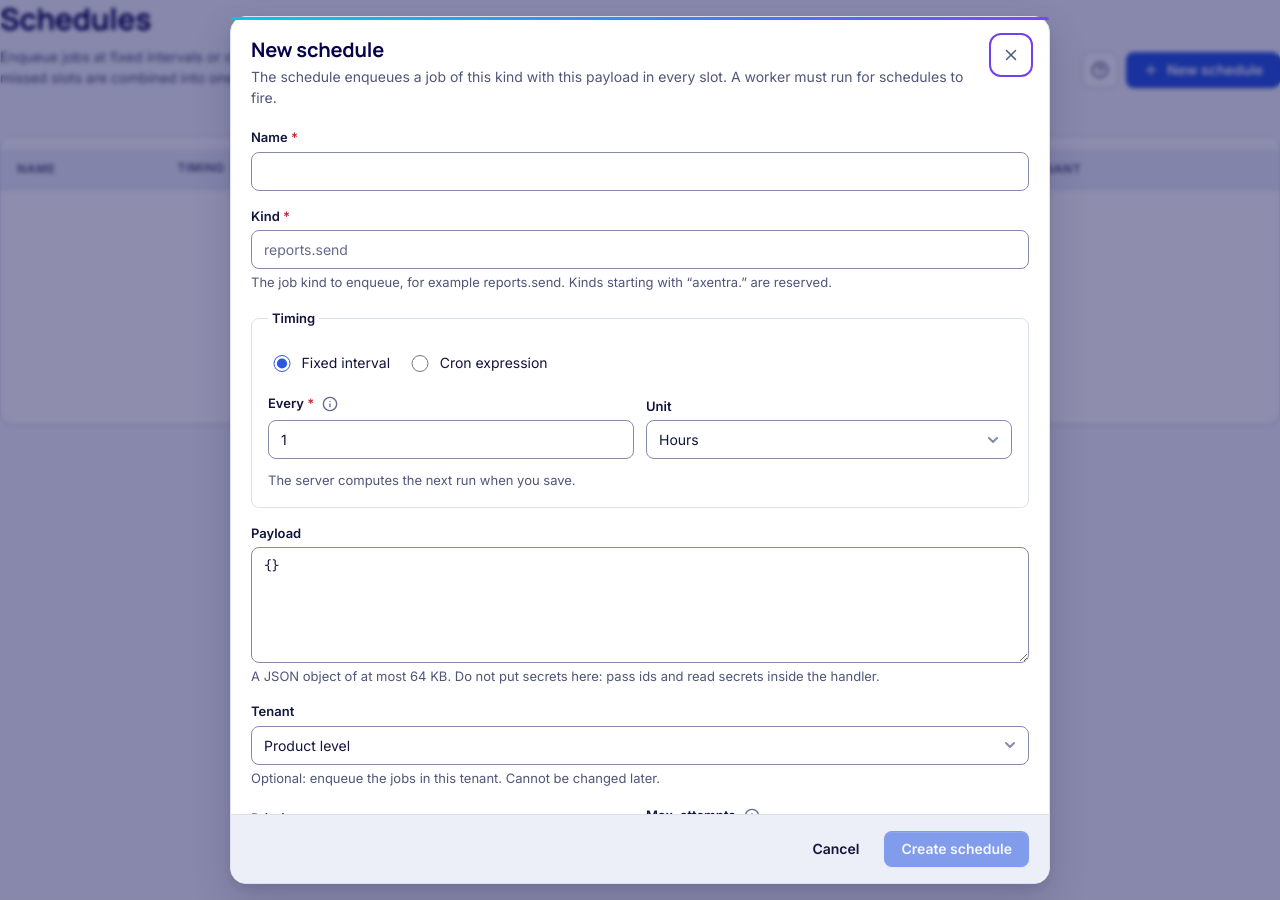
Test case: SchedulesPage › shows the server explanation when it rejects a cron expression
Type "Never" into the field labelled "Name *" at (640, 171), box x1=251 y1=152 x2=1029 y2=190
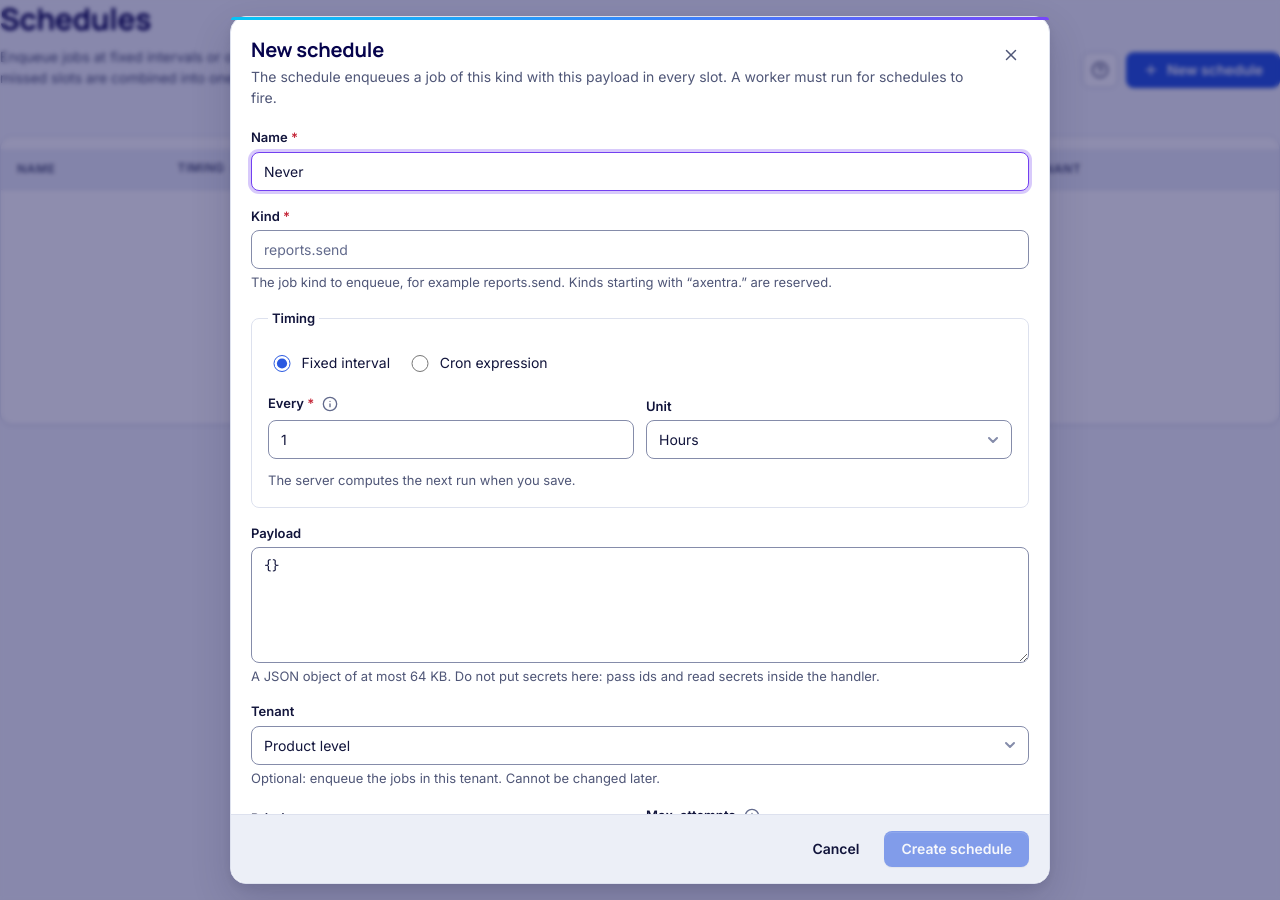
Type "x.y" into the field labelled "Kind *" at (640, 250), box x1=251 y1=230 x2=1029 y2=269
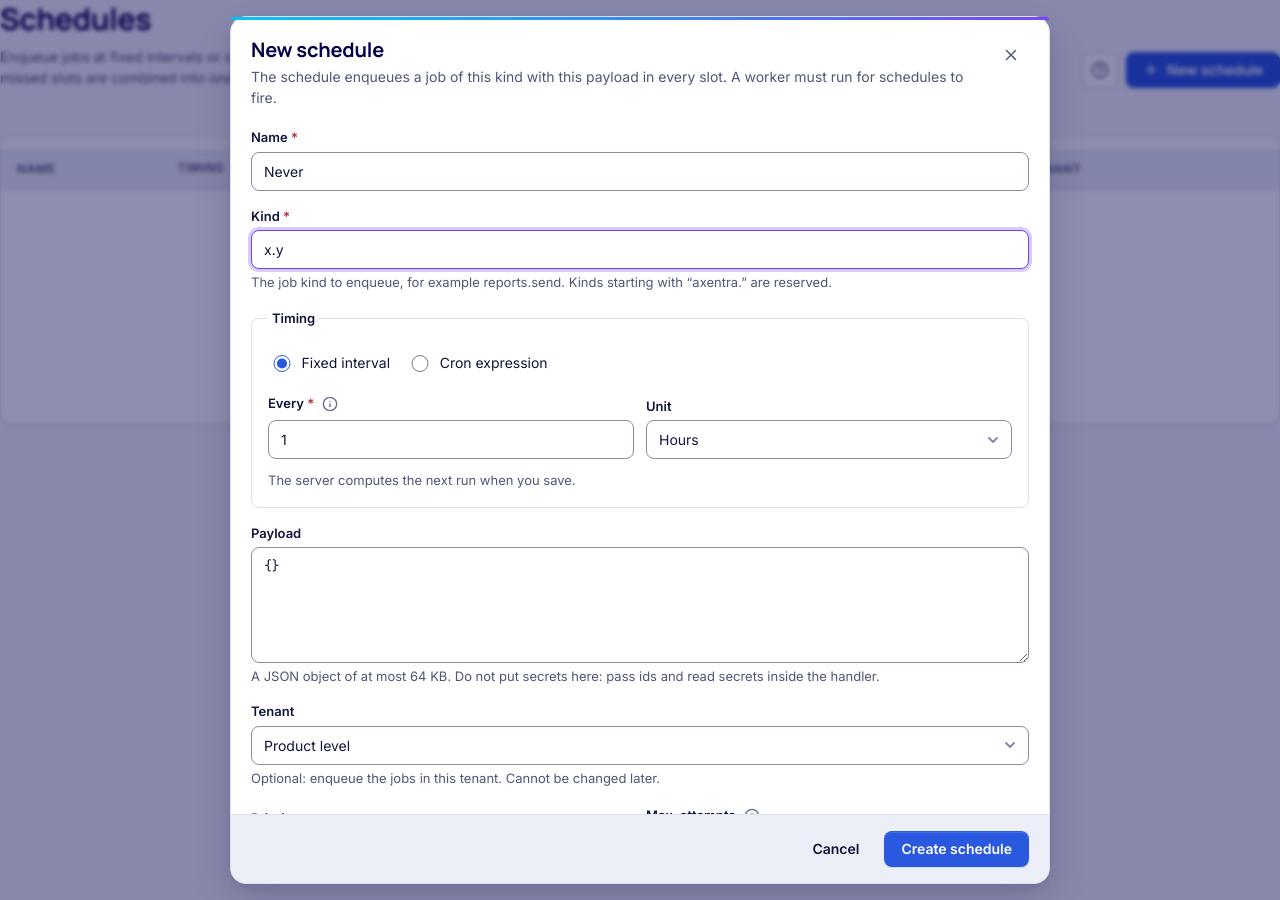
Click the radio button labelled "Cron expression" at (420, 364), box x1=411 y1=355 x2=429 y2=372
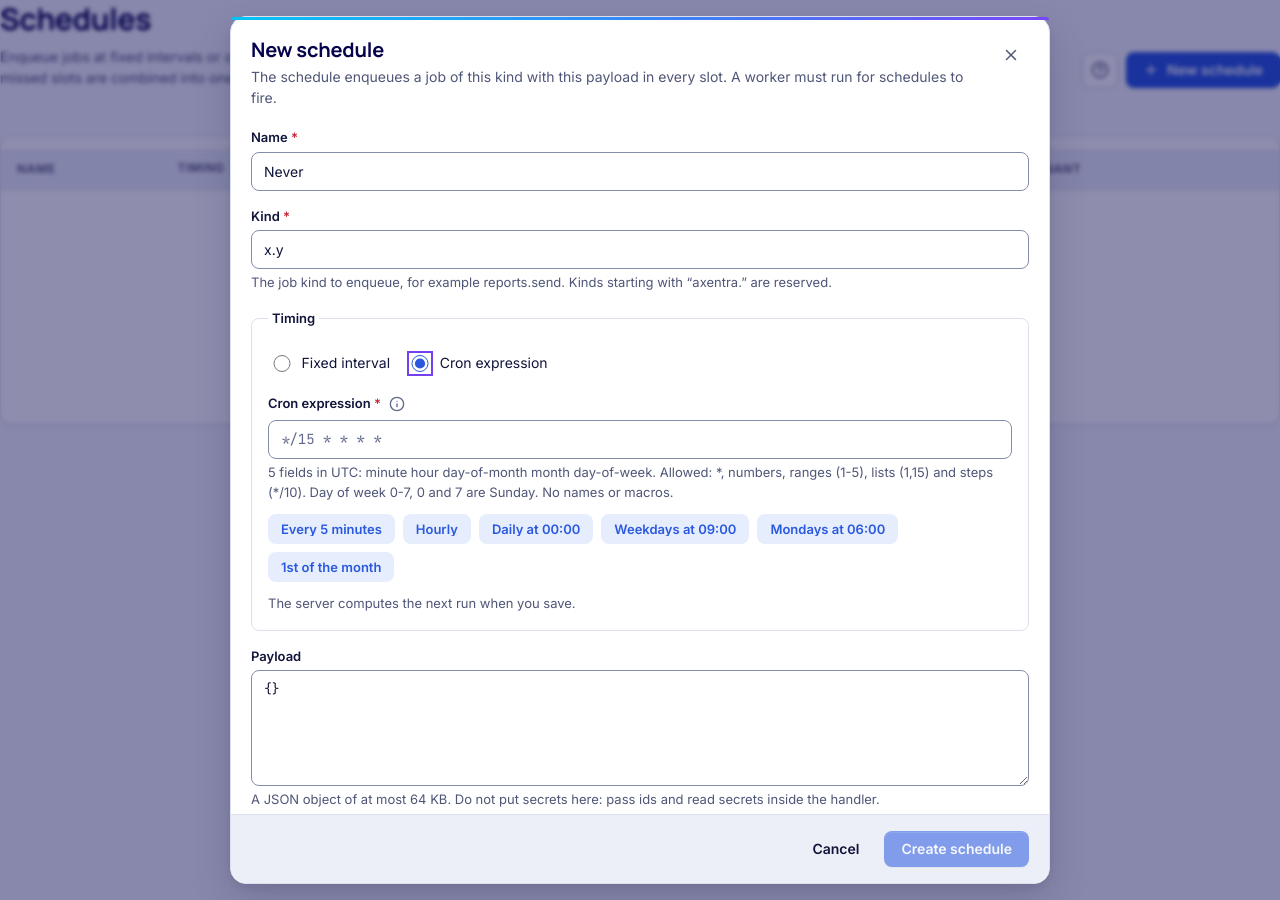
Type "0 0 31 2 *" into the field labelled "Cron expression *" at (640, 440), box x1=268 y1=420 x2=1012 y2=459
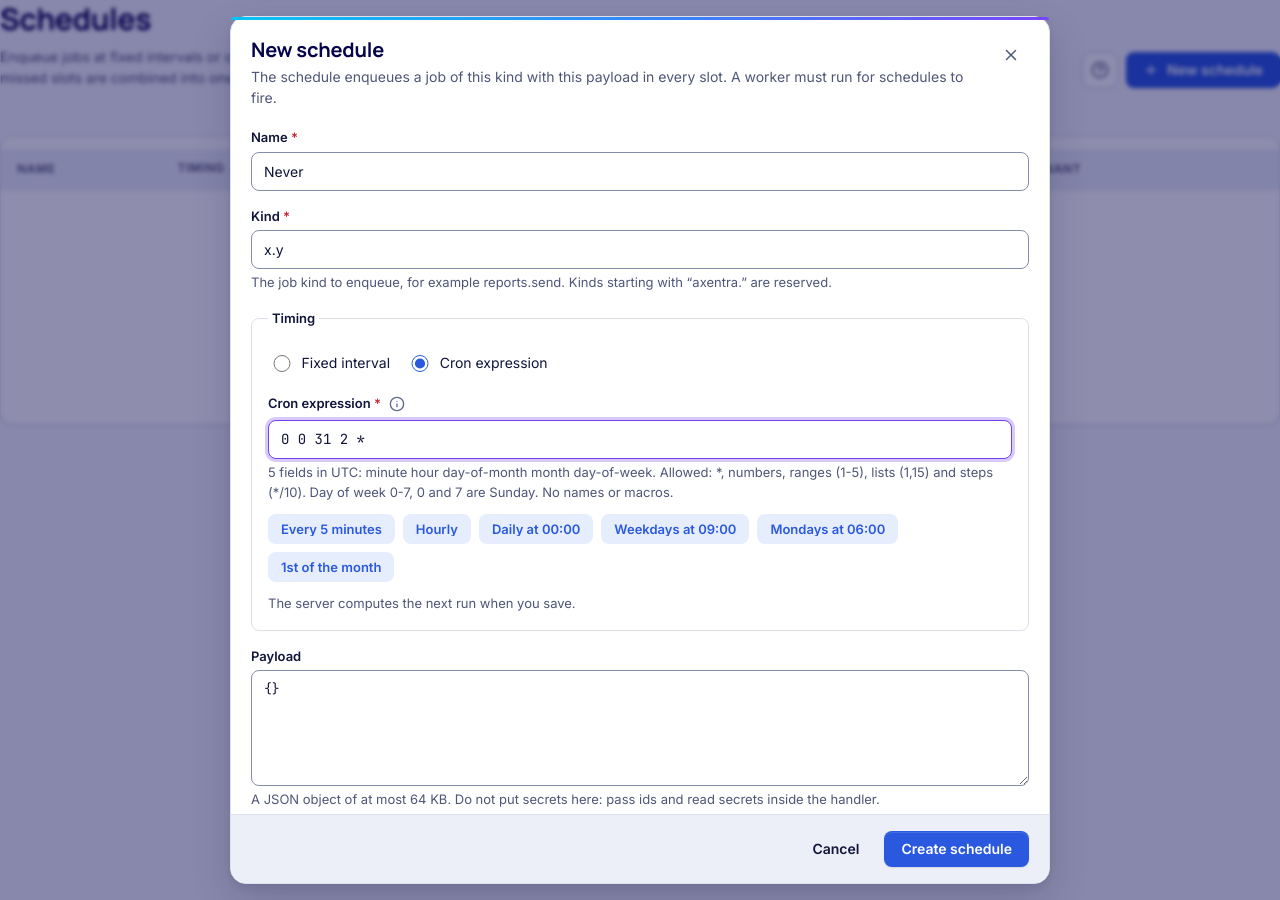
Click the button "Create schedule" at (957, 849), box x1=884 y1=831 x2=1029 y2=867
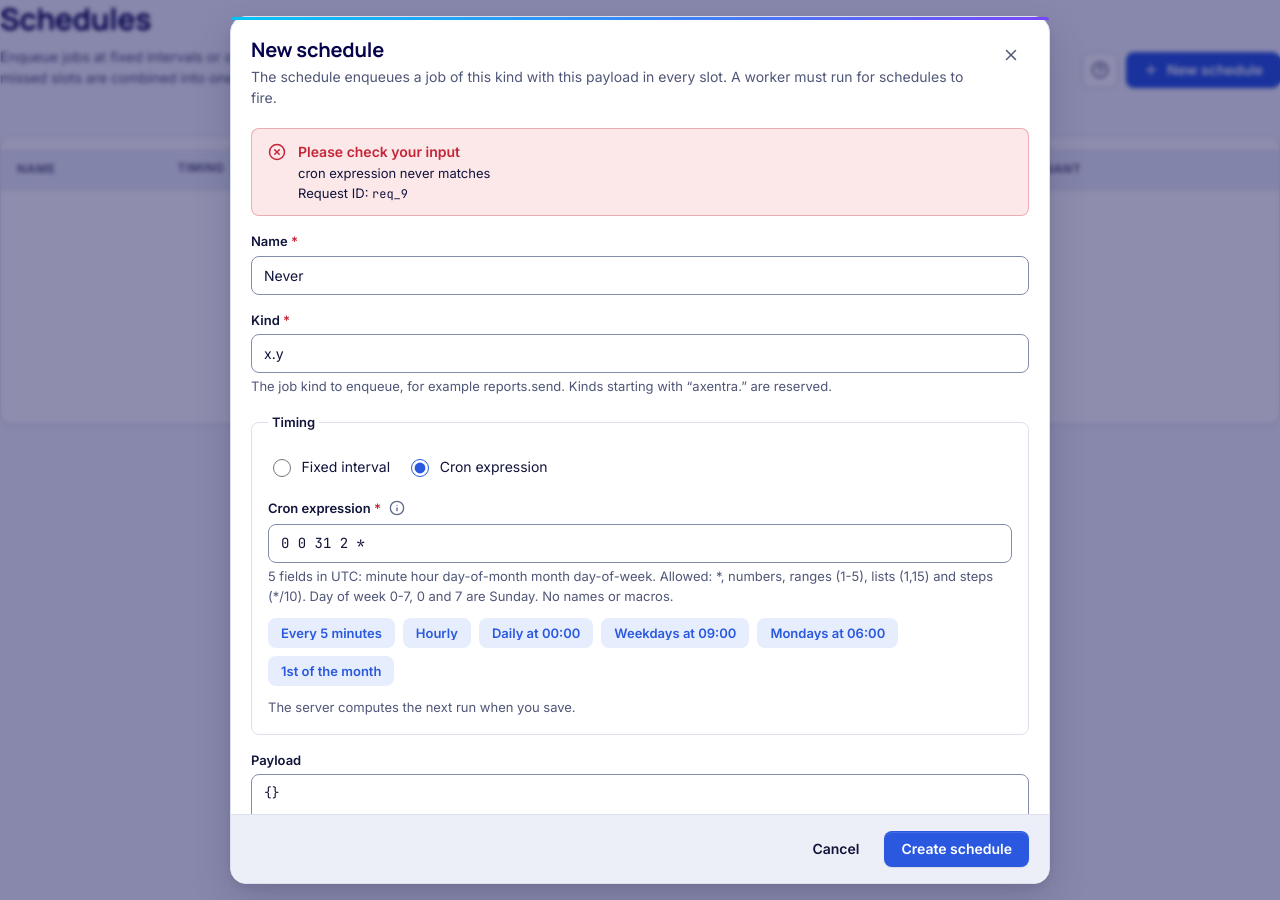
expect the message shows "cron expression never matches": met, box x1=298 y1=165 x2=490 y2=181
expect the message shows "req_9": met, box x1=372 y1=186 x2=408 y2=202
